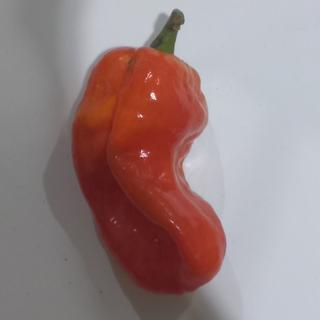Grade-A: (65, 42, 229, 297)
